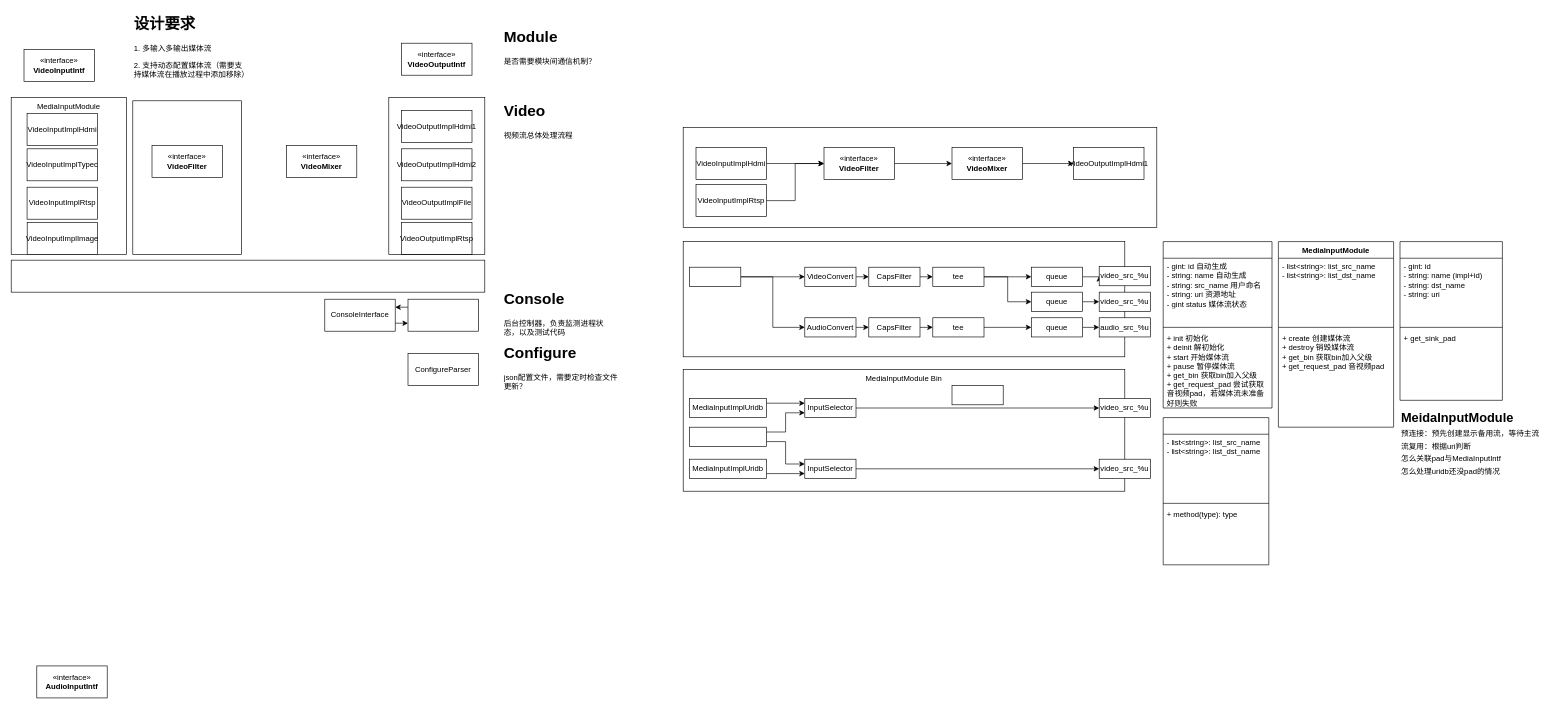
Some shapes in this 1558 by 709 pixel diagram are drawn without their labels. Each missing label, with the box of its shape:
ConsoleTerminal: (407, 299, 478, 331)
Media Matrix (instance all module): (11, 260, 485, 292)
MediaInputImplImage: (689, 427, 766, 446)
MediaInputIntf: (1163, 241, 1272, 408)
MediaInputIntf Bin: (683, 241, 1125, 357)
need? queue: (951, 385, 1003, 405)
Source: (689, 267, 741, 286)
Video Track 管道: (683, 127, 1157, 228)
VideoMixer: (1163, 417, 1269, 565)
VideoOutputIntf: (1399, 241, 1502, 400)
VideoOutputModule: (388, 97, 485, 254)
VideoProcessModule: (132, 100, 242, 254)
